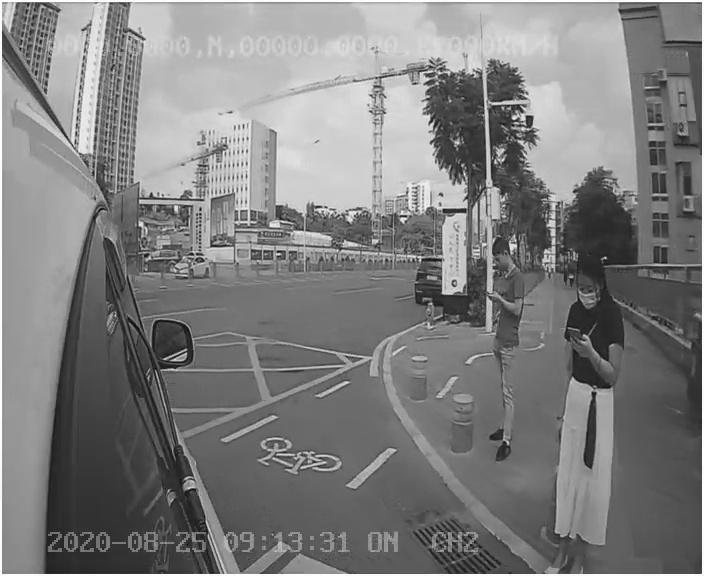person: (546, 250, 632, 568)
